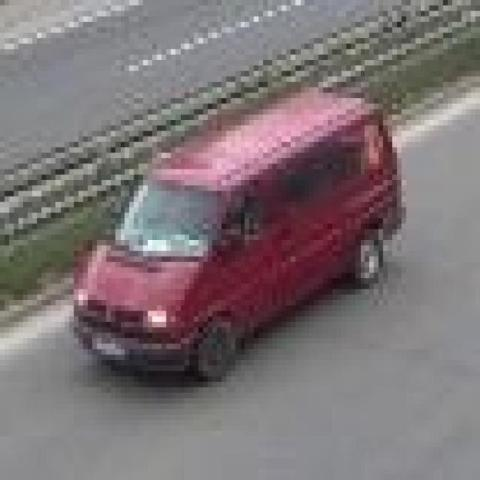van: (74, 90, 402, 385)
